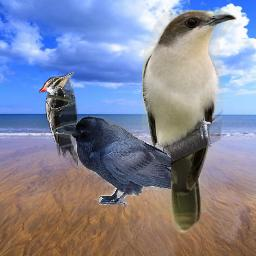Crow: (54, 116, 171, 205)
Cuckoo: (142, 10, 237, 235)
Woodpecker: (39, 72, 78, 171)
